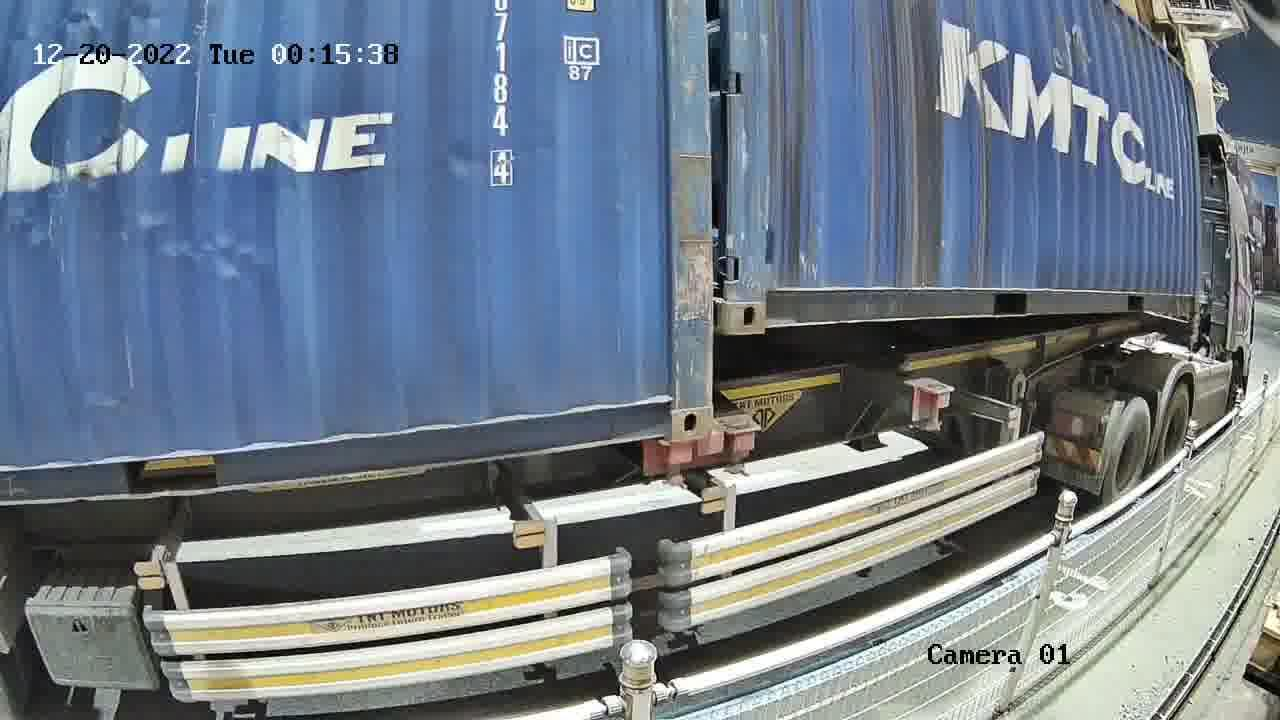Cone: (659, 436, 708, 494), (716, 413, 755, 479)
Hole_L: (730, 250, 801, 333)
Hole_R: (615, 373, 712, 442)
Tire: (1105, 402, 1152, 500), (1157, 384, 1191, 461)
